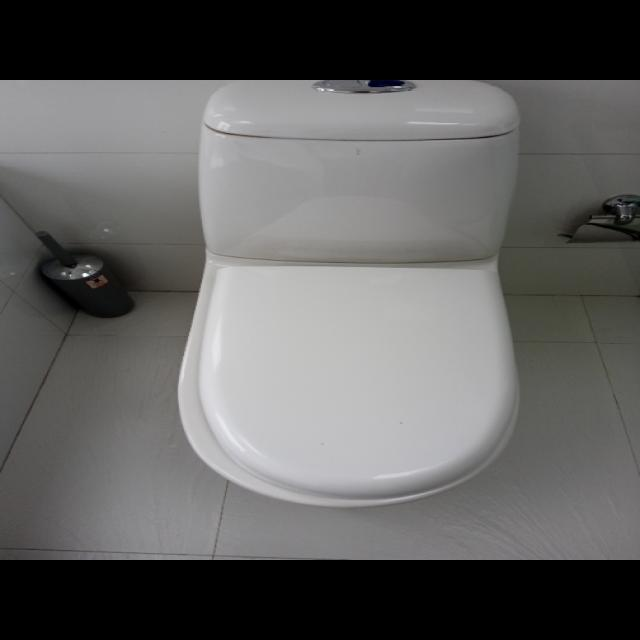toilet: (175, 79, 522, 508)
